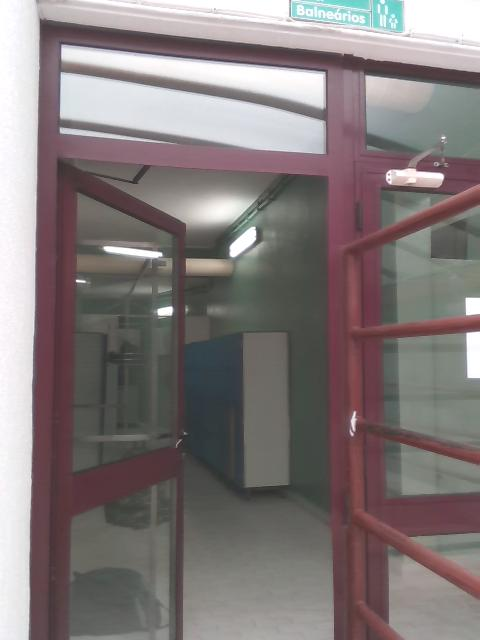open_door: (28, 138, 352, 639)
